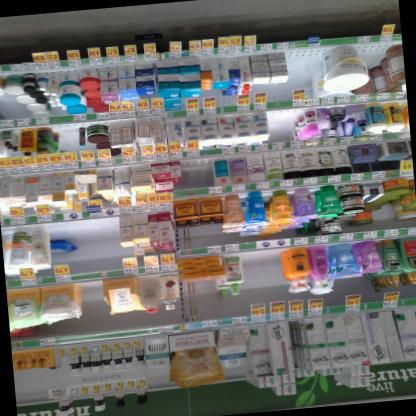empty_space: (285, 47, 324, 101), (263, 248, 292, 312), (74, 281, 107, 335), (242, 250, 269, 315), (100, 216, 124, 271), (47, 222, 69, 276), (82, 219, 104, 272), (52, 123, 80, 163), (65, 219, 85, 275), (269, 110, 289, 143), (287, 109, 304, 142), (195, 158, 214, 187), (178, 160, 196, 189)
